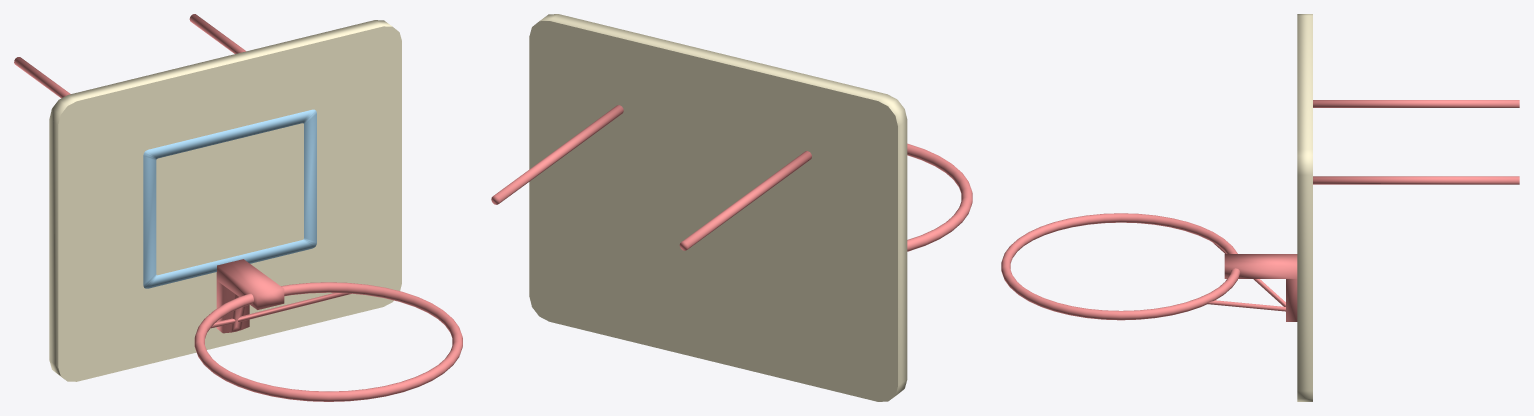
The model's file is koripallokori1.fbx.
3 renders of one model, left to right at view 1: azimuth 30°, elevation 25°; view 2: azimuth 150°, elevation 25°; view 3: azimuth 270°, elevation 25°, orthographic. The views are drawn at different scales.
Visible parts, largest first — view 1: Cylinder; view 2: Cylinder; view 3: Cylinder.
Part boxes in pixels (bbox=[...]): Cylinder: bbox=[14, 14, 462, 401]; Cylinder: bbox=[491, 14, 972, 401]; Cylinder: bbox=[1001, 14, 1519, 401].
Bounding box in the file's own units: 1.51 × 1.17 × 2.2.
